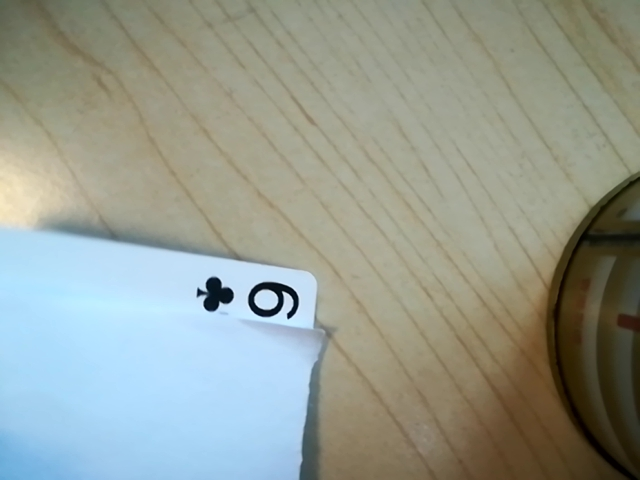mh 6: (188, 269, 315, 331)
